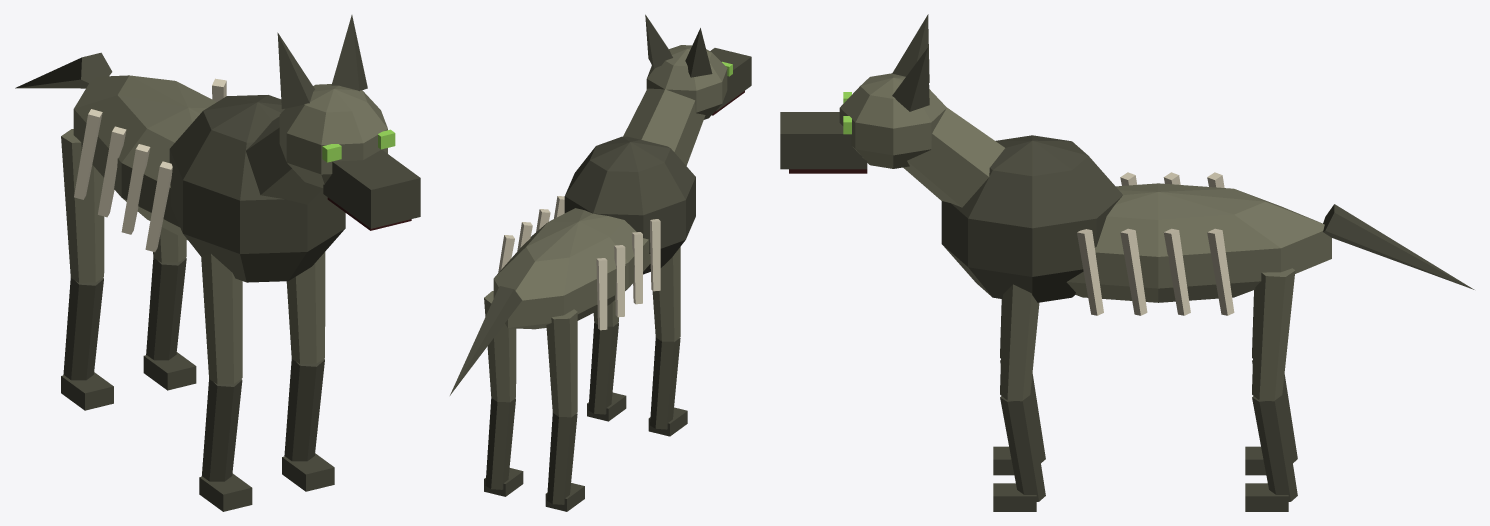
The model's file is Hound_Corpse.glb.
The picture shows the model from 3 angles, left to right: view 1: azimuth 30°, elevation 25°; view 2: azimuth 150°, elevation 25°; view 3: azimuth 270°, elevation 25°; orthographic projection. The views are drawn at different scales.
Size of the model in its own units: 0.3698 by 1.16 by 1.6.
Materials: 1 (1 with a texture image).
